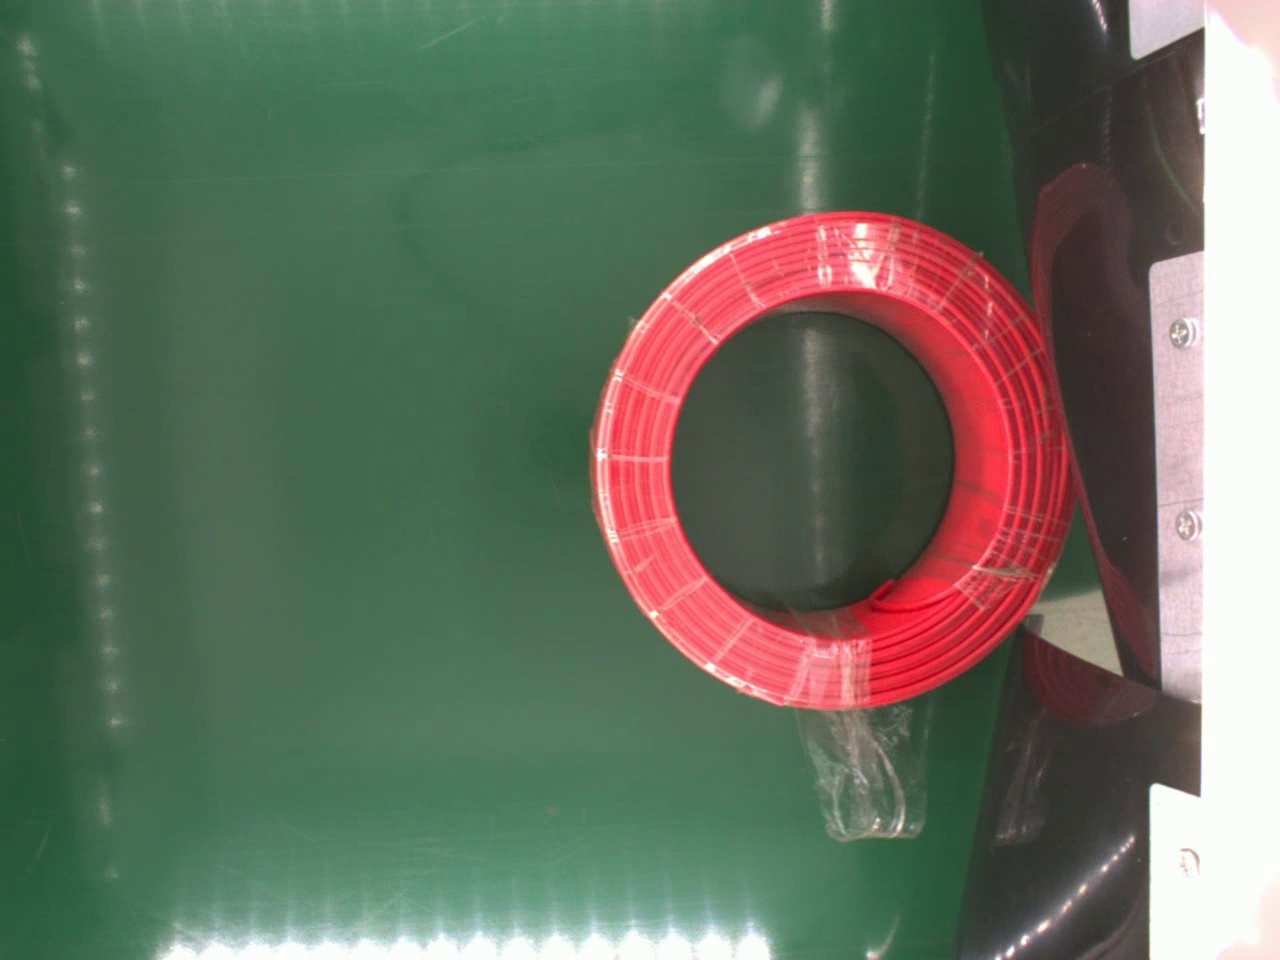red: (586, 209, 1072, 712)
